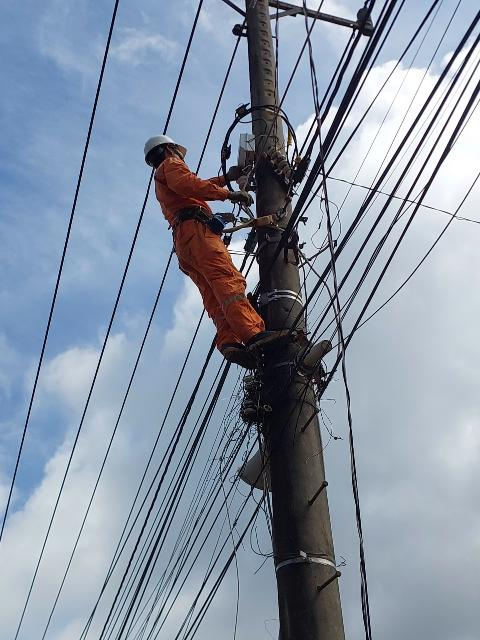gloves: (216, 183, 264, 209), (217, 157, 264, 182)
harness: (158, 202, 228, 234)
helmet: (126, 130, 193, 161)
shoes: (212, 340, 262, 374), (245, 328, 312, 347)
